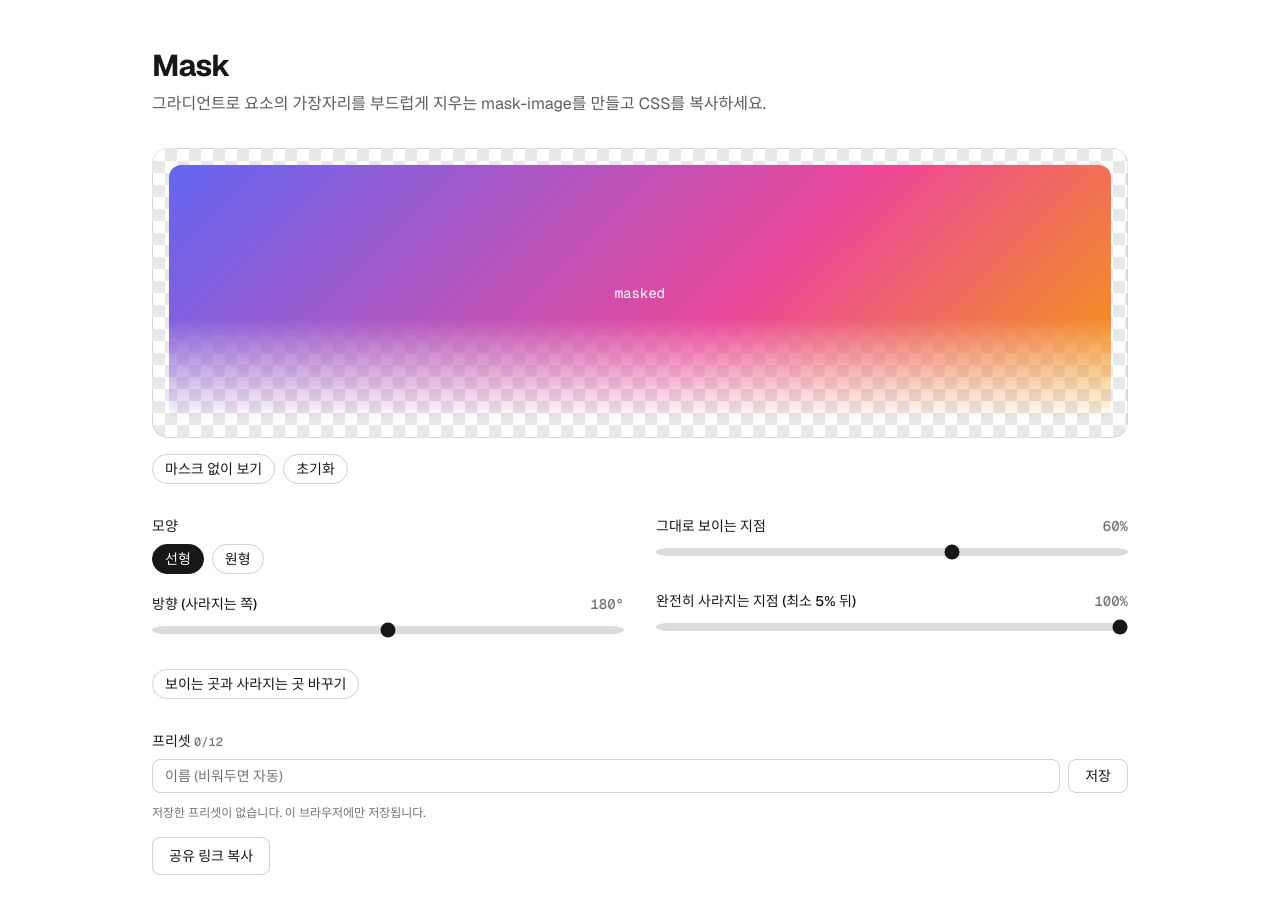
Test: MaskMaker › 바꾸기를 누르면 투명에서 불투명으로 바뀐다
Click the button "보이는 곳과 사라지는 곳 바꾸기" at (256, 684), box [152,669,360,699]
(page scrolled)
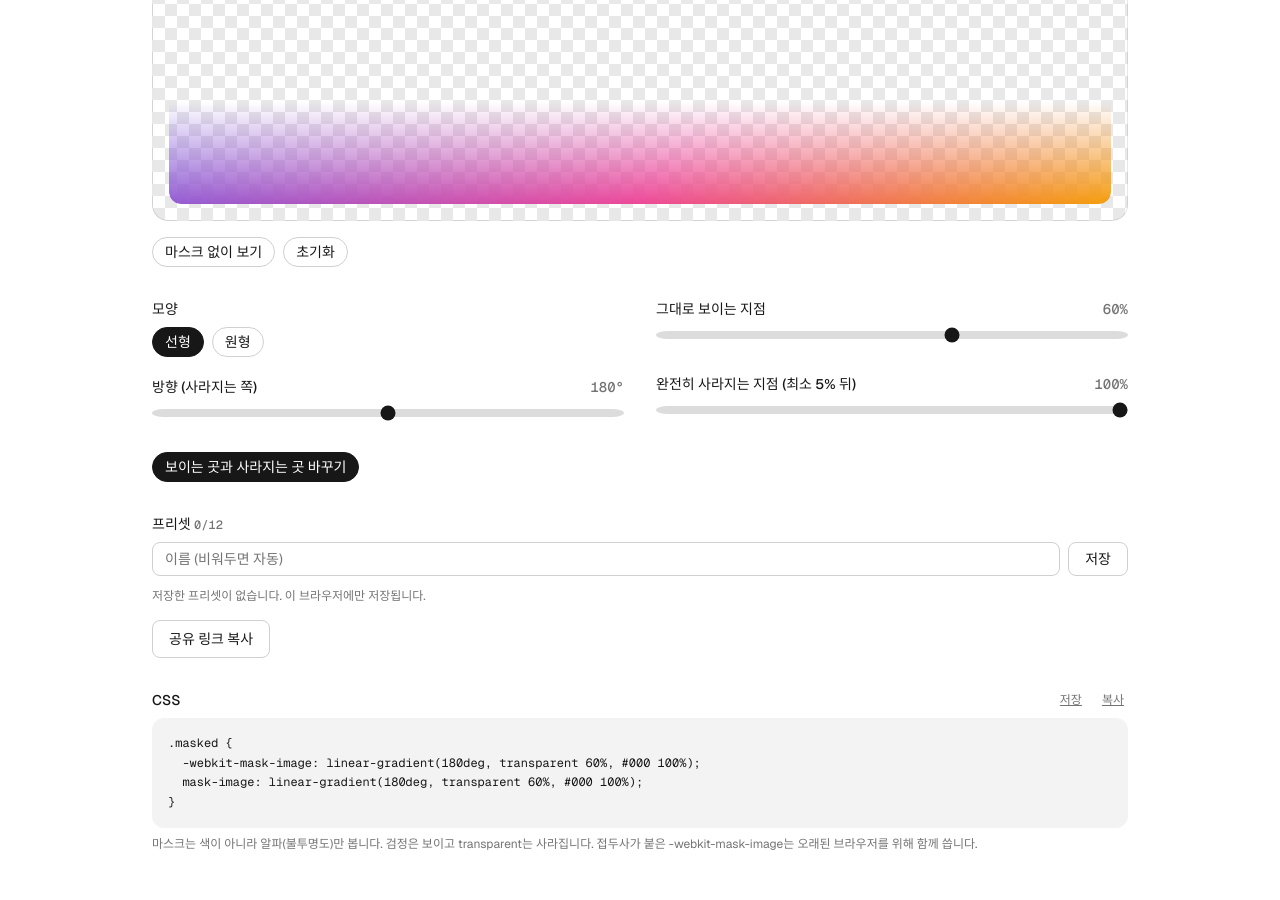
Check: the text named "CSS 코드" shows "transparent 60%, #000 100%", box [168,735,701,810]
